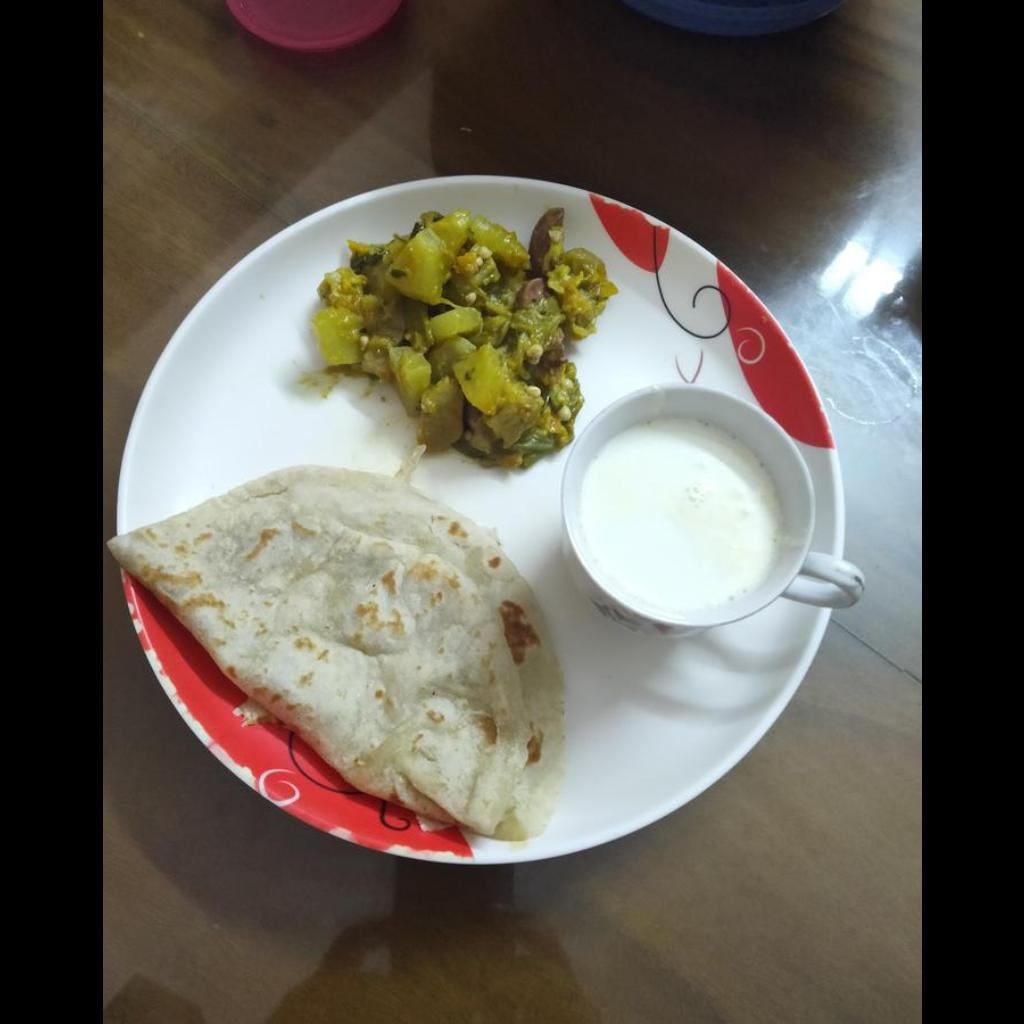milk: (579, 417, 776, 613)
ruti: (112, 471, 570, 843)
vegetable: (312, 212, 608, 468)
